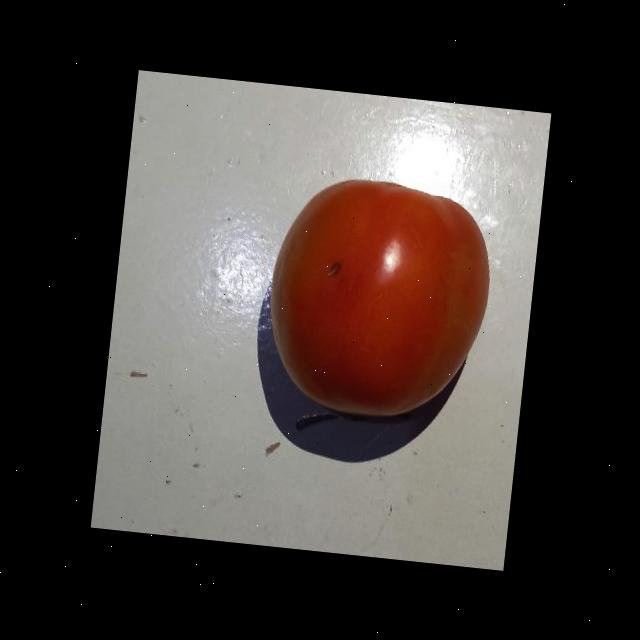tomato: (260, 163, 502, 446)
